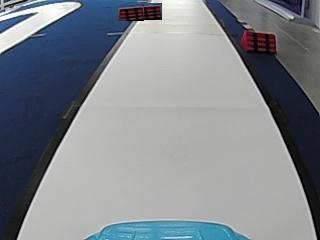bomb: (240, 30, 278, 52)
